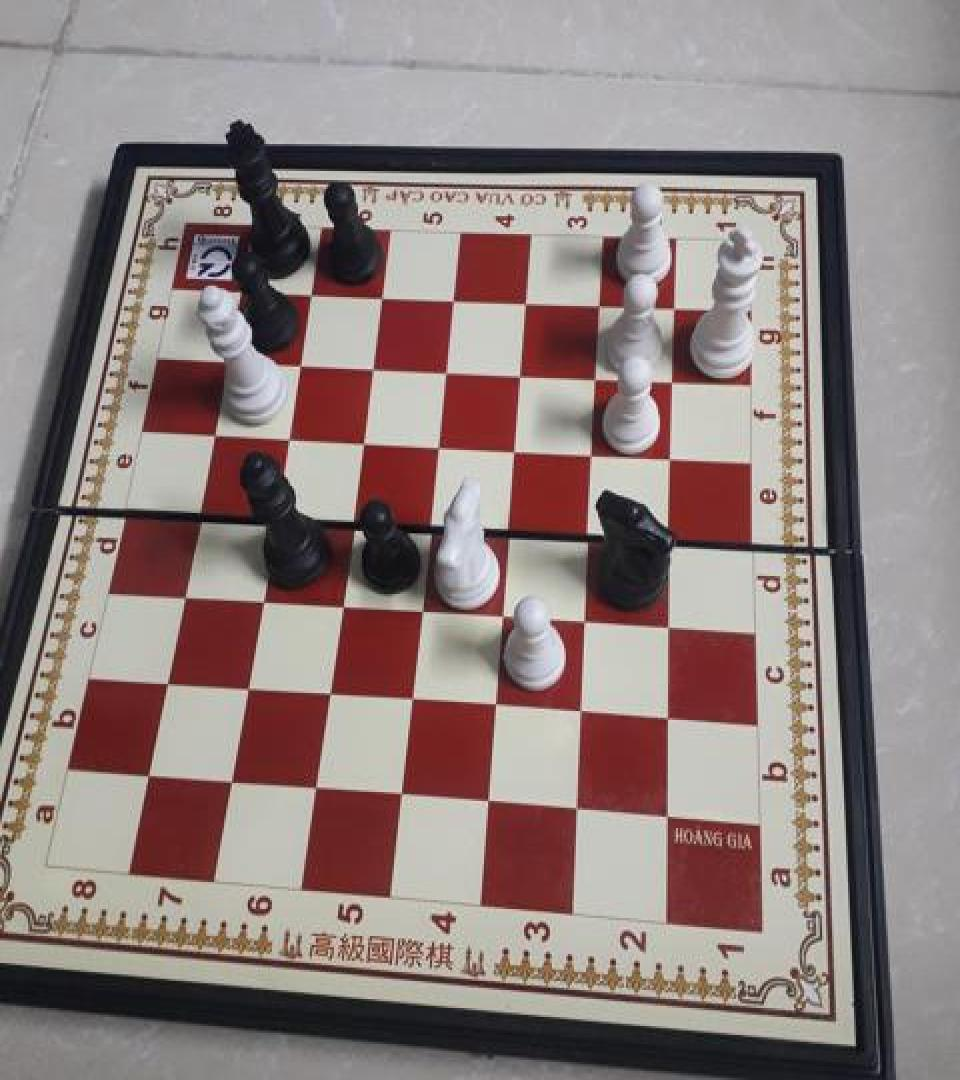xcorner: (136, 756, 166, 790), (219, 762, 249, 796), (303, 770, 333, 804), (388, 777, 418, 811), (475, 784, 505, 818), (563, 792, 593, 826), (652, 800, 682, 834), (154, 662, 184, 696), (234, 669, 264, 703), (316, 675, 346, 709), (398, 682, 428, 716), (567, 694, 597, 728), (654, 701, 684, 735), (171, 576, 201, 610), (249, 580, 279, 614), (328, 586, 358, 620), (489, 597, 519, 631), (571, 603, 601, 637), (262, 498, 292, 532), (339, 503, 369, 537), (417, 507, 447, 541), (496, 512, 526, 546), (575, 518, 605, 552), (656, 522, 686, 556), (201, 416, 231, 450), (275, 420, 305, 454), (349, 424, 379, 458), (425, 428, 455, 462), (502, 432, 532, 466), (579, 436, 609, 470), (658, 441, 688, 475), (215, 343, 245, 377), (287, 346, 317, 380), (359, 350, 389, 384), (433, 353, 463, 387), (507, 356, 537, 390), (583, 360, 613, 394), (659, 364, 689, 398), (228, 273, 258, 307), (298, 276, 328, 310), (369, 279, 399, 313), (440, 282, 470, 316), (513, 286, 543, 320), (586, 289, 616, 323), (660, 291, 690, 325), (482, 689, 512, 722), (408, 592, 438, 625), (655, 609, 685, 642), (186, 493, 216, 526)
